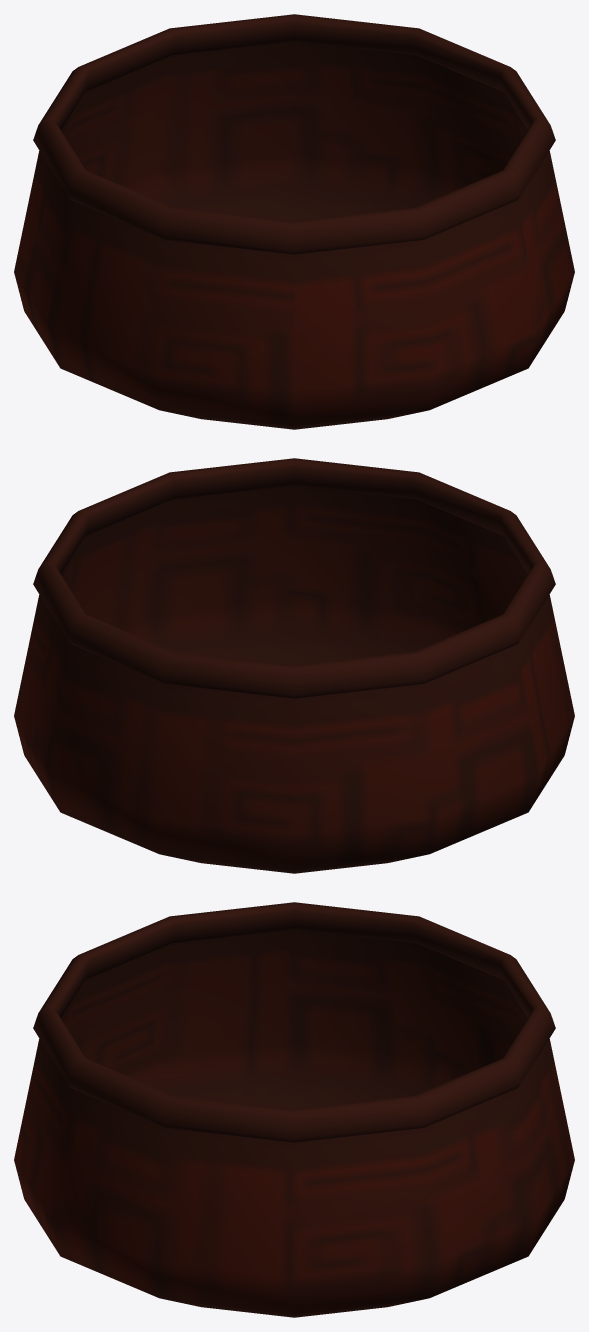
Rendered from Basket.FBX.
3 views of the same model, one above another, from view 1: azimuth 30°, elevation 25°; view 2: azimuth 150°, elevation 25°; view 3: azimuth 270°, elevation 25° (orthographic).
Parts seen in each view (by area): view 1: Basket; view 2: Basket; view 3: Basket.
Part boxes in pixels (left/top/right/bottom): Basket: left=14, top=14, right=574, bottom=429; Basket: left=14, top=458, right=574, bottom=873; Basket: left=14, top=902, right=574, bottom=1317.
Size of the model in its own units: 1.62 by 0.7396 by 1.62.
